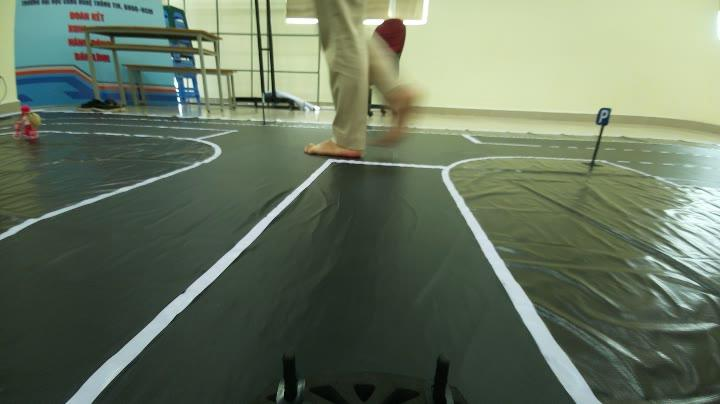parking: (592, 102, 616, 132)
